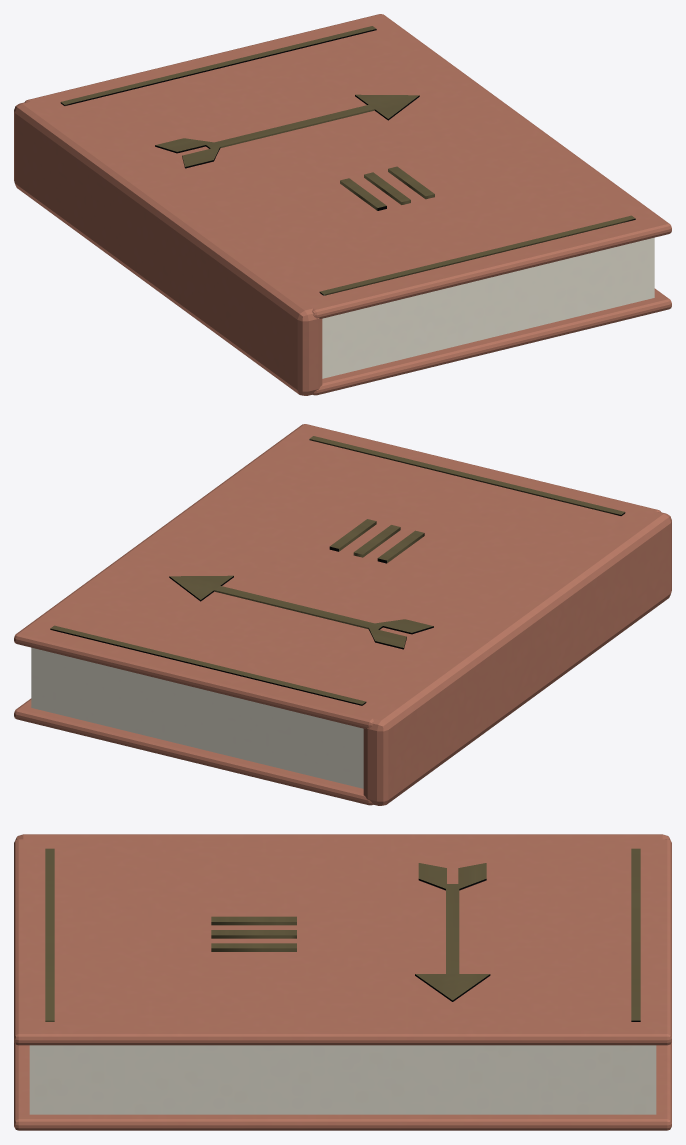
File: FL_BookArchery3.fbx
3 views of the same model, one above another, from view 1: azimuth 30°, elevation 25°; view 2: azimuth 150°, elevation 25°; view 3: azimuth 270°, elevation 25° (orthographic). The views are drawn at different scales.
Visible parts, largest first — view 1: FL_BookArchery3; view 2: FL_BookArchery3; view 3: FL_BookArchery3.
Boxes of the visible parts, x1,y1,x2,y2 form: FL_BookArchery3: [14, 14, 671, 395]; FL_BookArchery3: [14, 424, 671, 805]; FL_BookArchery3: [14, 834, 671, 1130].
Size of the model in its own units: 0.0129 by 0.00295 by 0.0175.
